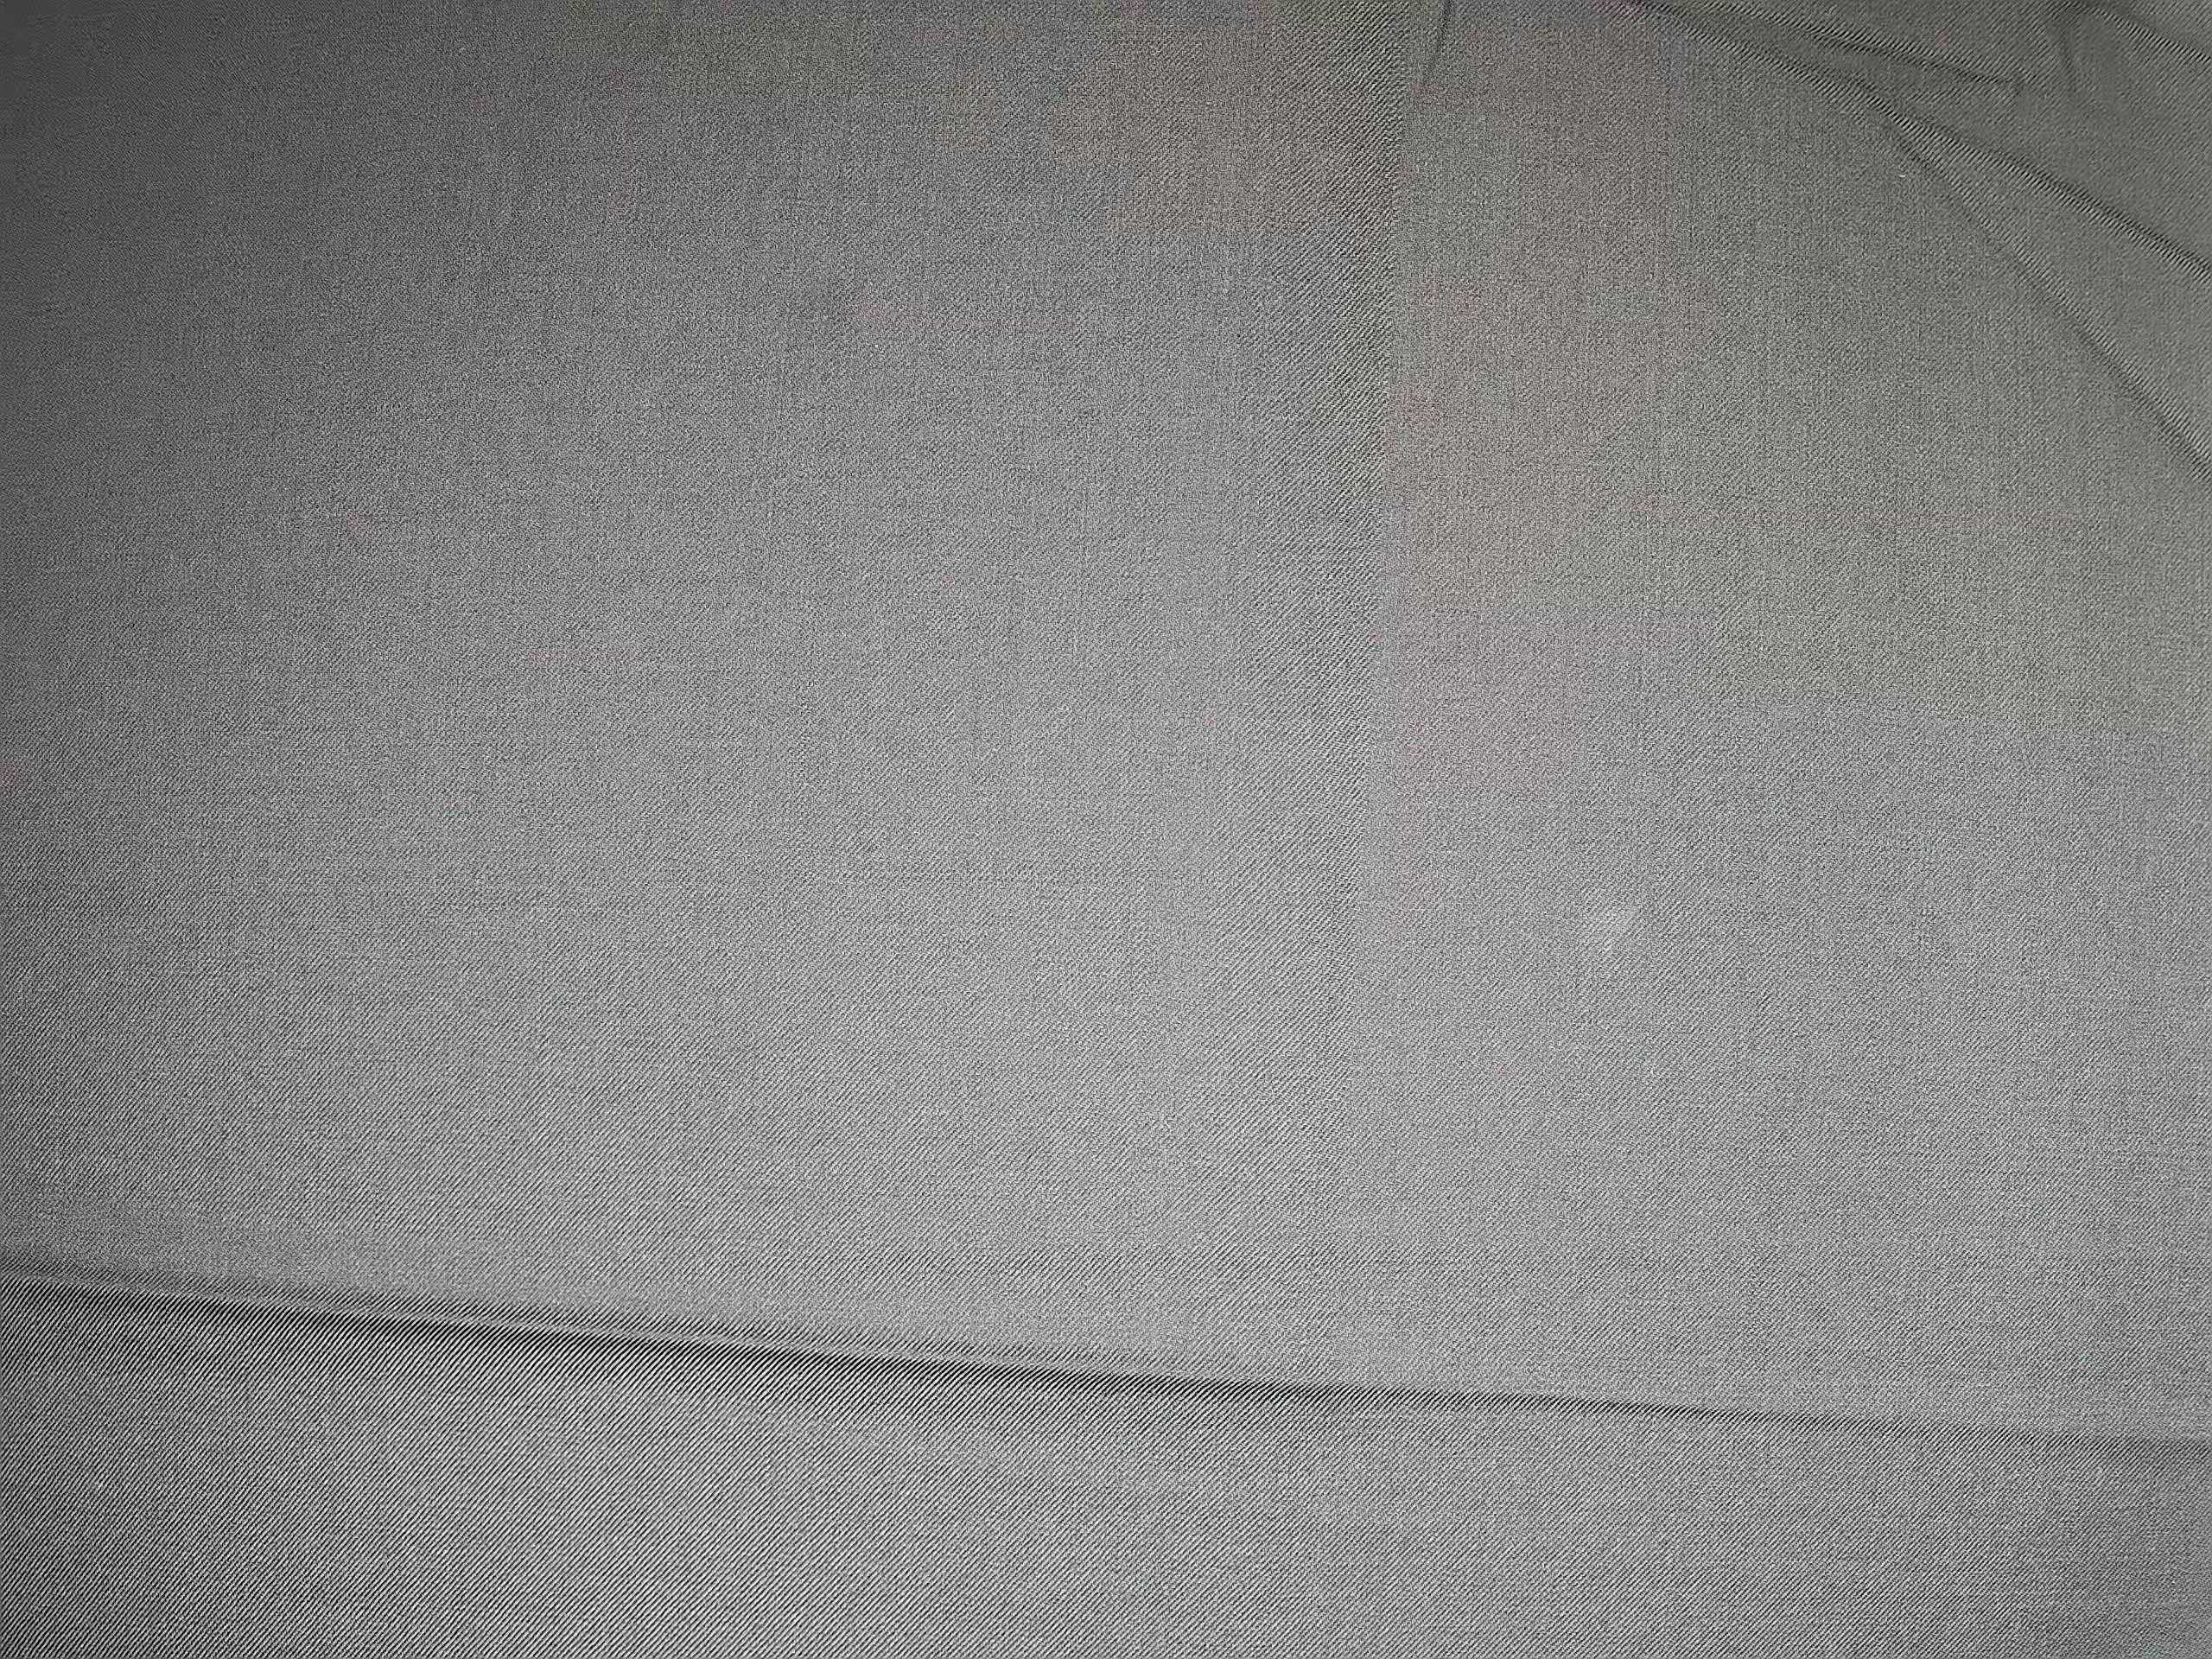hanging-warp: (1230, 5, 1393, 1129)
